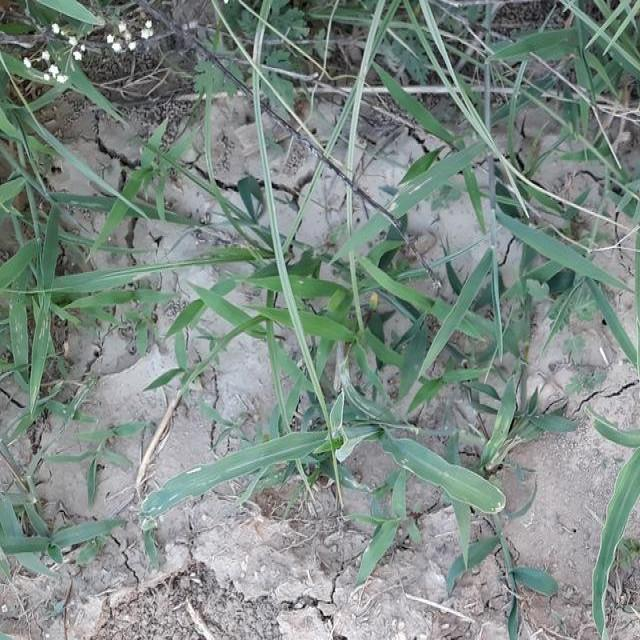weed: (0, 0, 636, 173), (264, 163, 496, 532), (0, 158, 108, 454)
